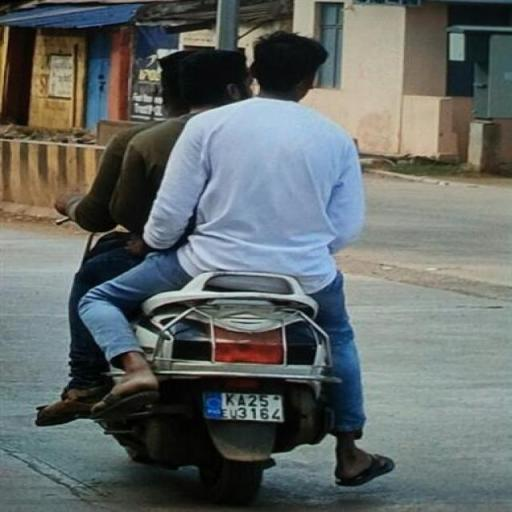tripple riding: (52, 31, 374, 270)
